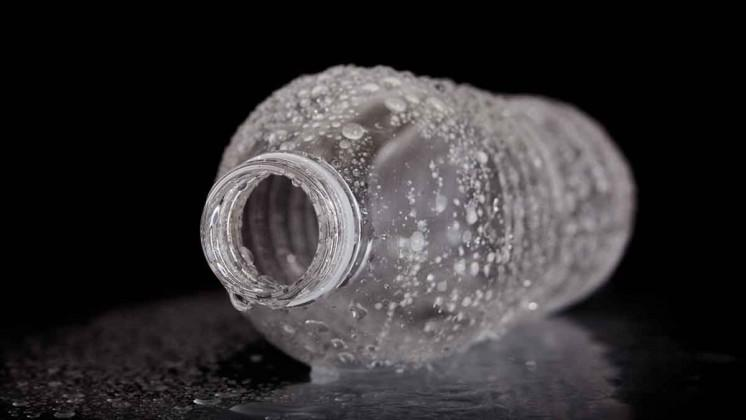bottle: (198, 51, 642, 385)
